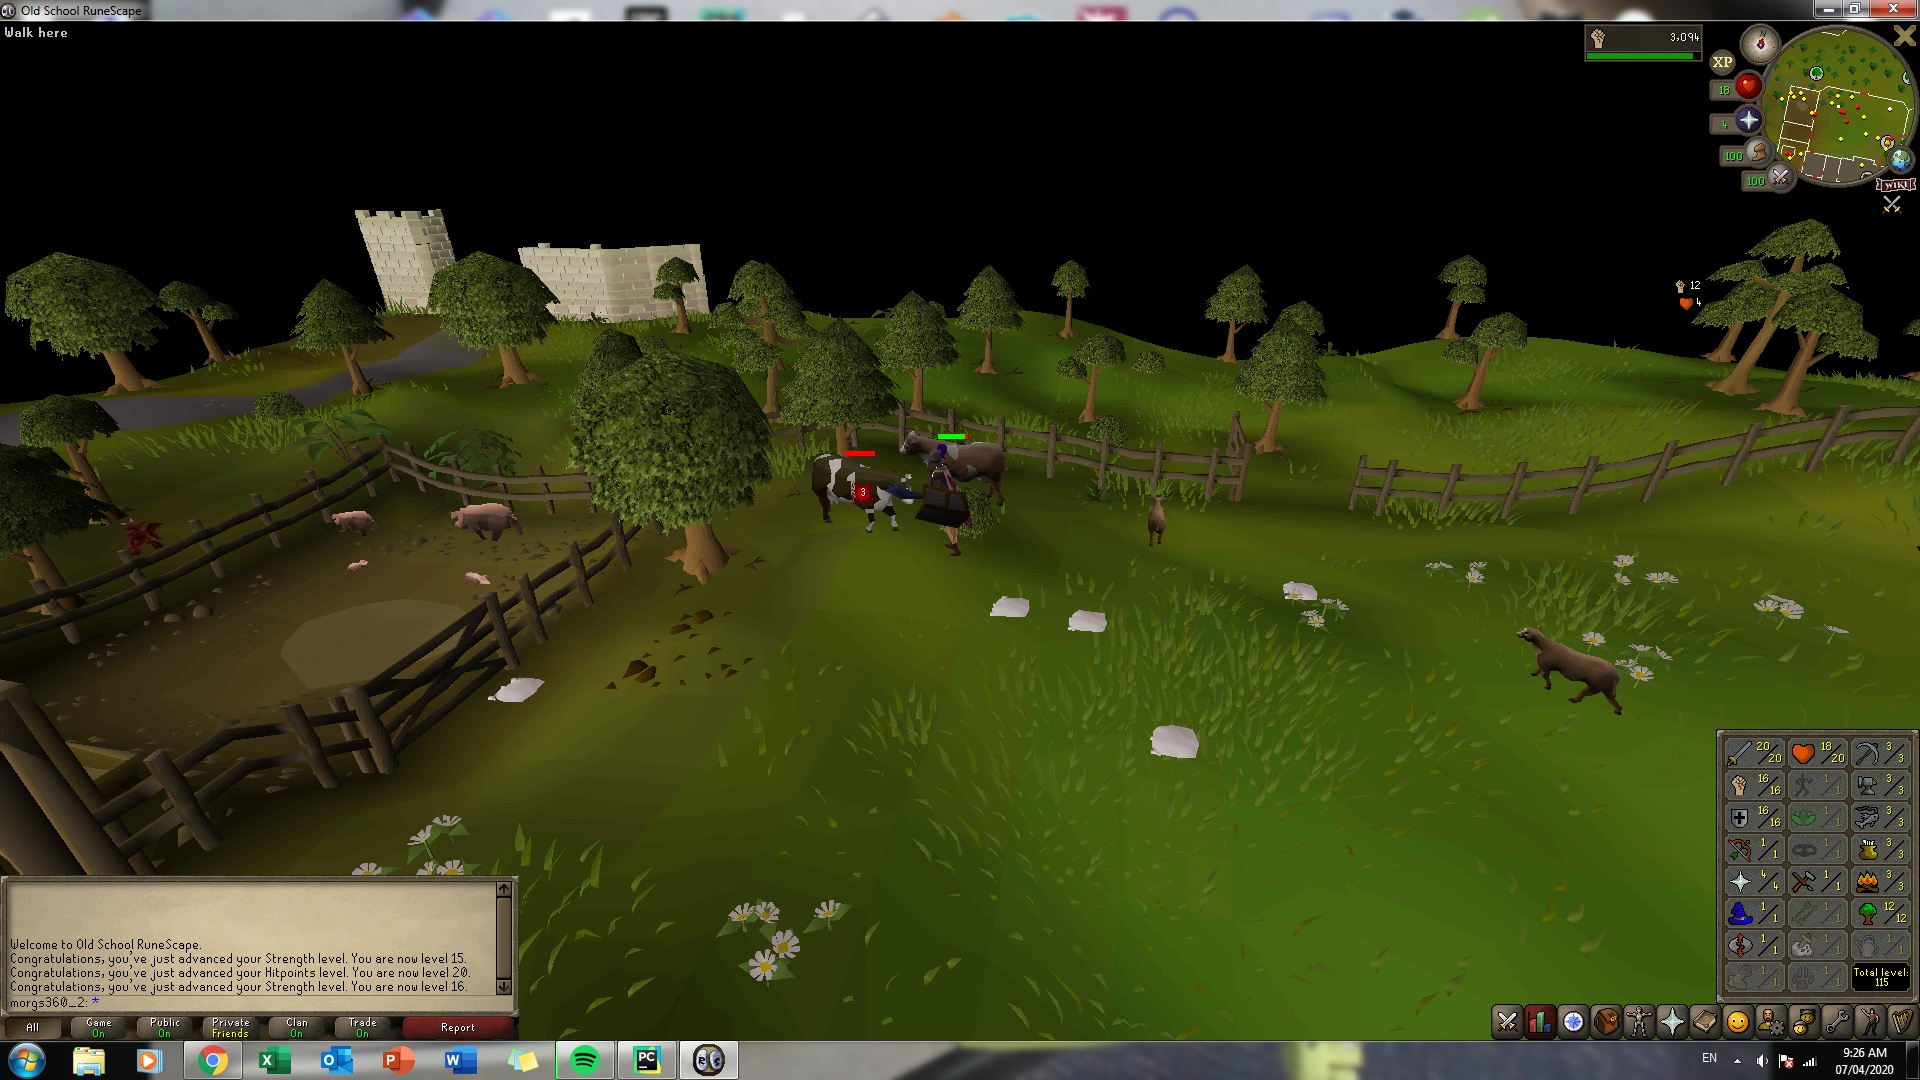cow: (1514, 622, 1629, 726), (903, 426, 1010, 518), (809, 451, 920, 535), (1145, 490, 1171, 549)
player: (921, 446, 974, 561)
